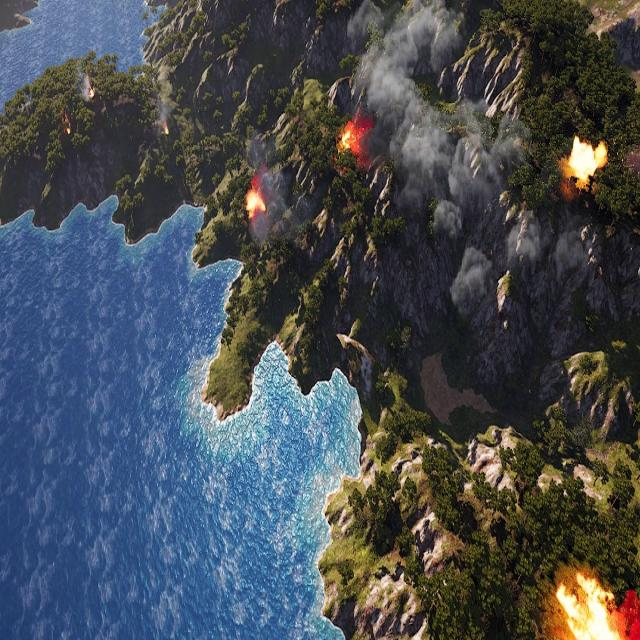fire: (556, 567, 640, 640), (569, 134, 607, 188), (341, 122, 364, 156), (245, 188, 268, 214), (65, 123, 73, 137), (164, 124, 170, 136), (89, 88, 95, 98)
smoke: (340, 0, 588, 313), (246, 133, 306, 240), (77, 64, 94, 102), (156, 95, 173, 130)
